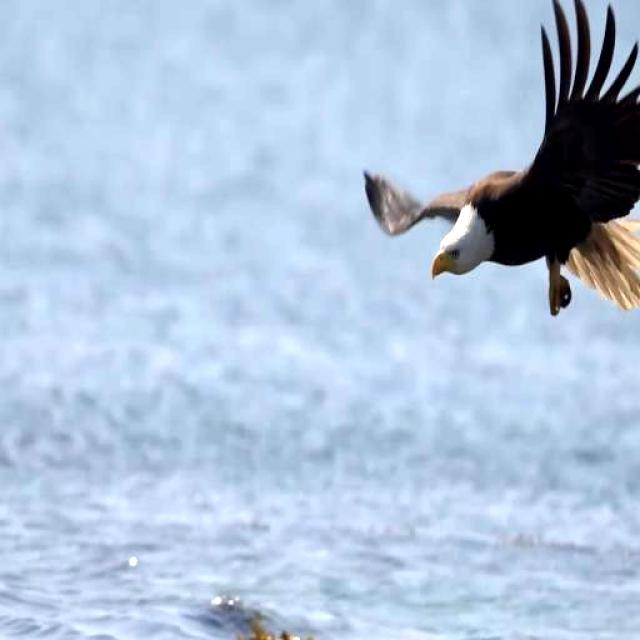airplane: (359, 4, 640, 342)
